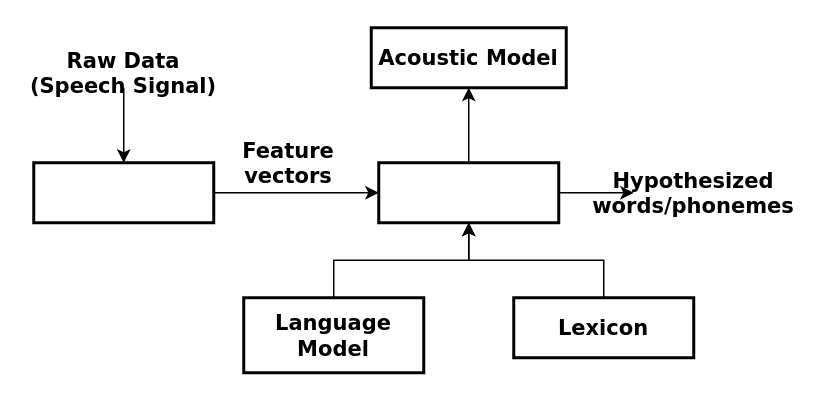
Image size: 819x399. Some labels were removed from this diagram. The shapes that lost their labels are listed below. From the top down, each one's centre as x and y in pixels, then its label:
At point (123, 192): "Preprocessing".
At point (468, 192): "Decoder".
